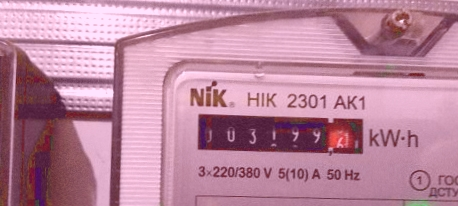0: (200, 123, 212, 144), (223, 122, 235, 142)
1: (267, 122, 277, 141)
3: (245, 125, 256, 144)
6: (334, 133, 344, 149)
9: (288, 122, 299, 143), (309, 124, 320, 143)
screen: (189, 107, 372, 163)
